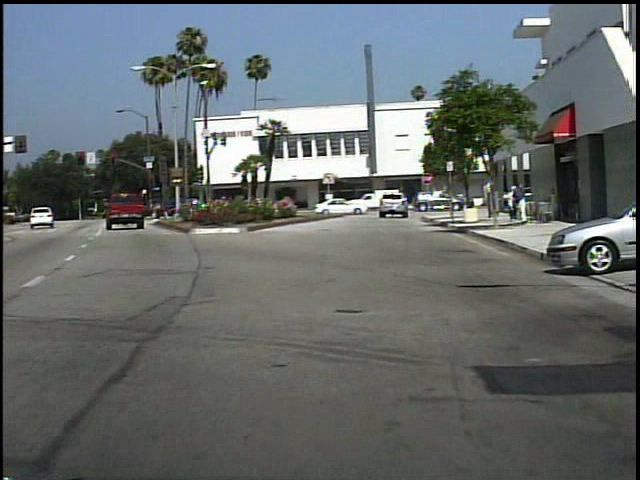person: (512, 182, 529, 224), (370, 190, 391, 219), (545, 184, 558, 223), (503, 184, 514, 220)
